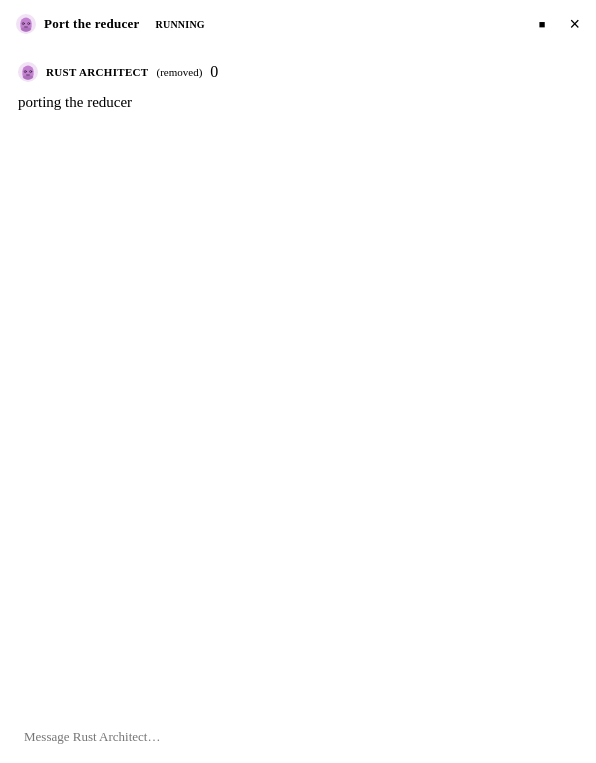
it: WorkspaceTaskTranscriptPanel › task composer › unqueued send shows no chip
Step 1. Type "Also check the CHANGELOG" into the text box labelled "Message Rust Architect…" → (271, 736), box x1=24 y1=727 x2=518 y2=746
Then press Enter
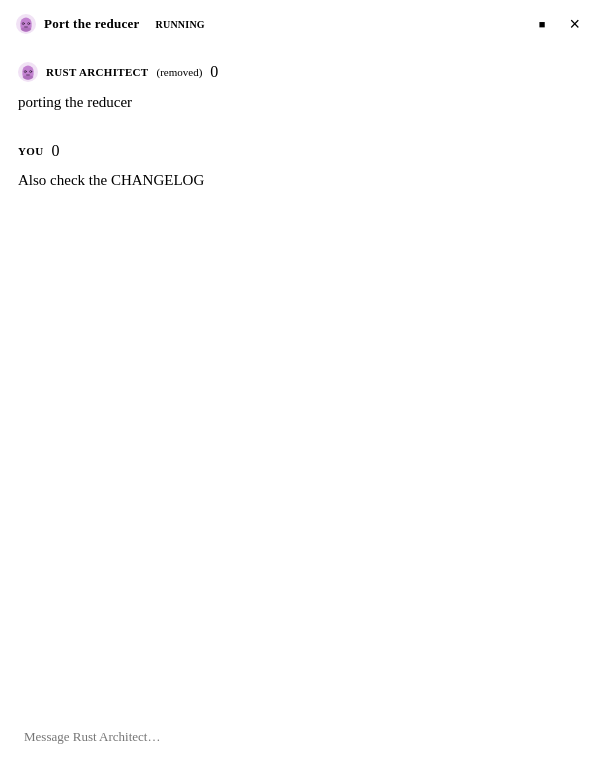
expect the text "Also check the CHANGELOG" is shown: met, box x1=18 y1=172 x2=204 y2=188
